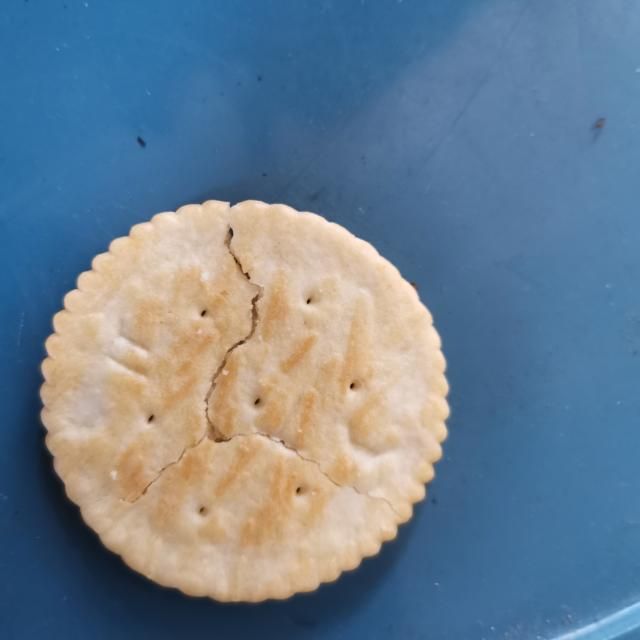Fracture: (86, 200, 423, 545)
